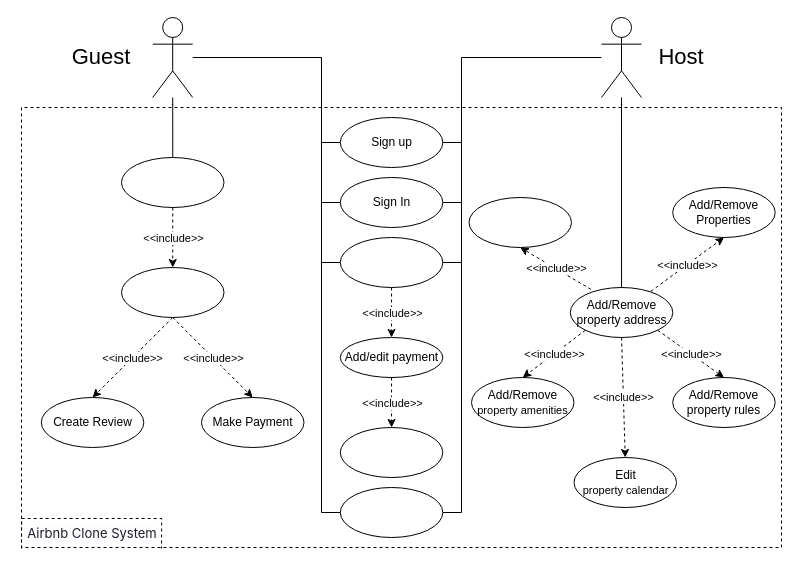
Image size: 800x567. Some labels were removed from this diagram. Here are the shapes that lost their labels. From the top down, the centre of each, then its label:
the point at 172,182: Search/Filter Properties
the point at 520,222: Add/Remove property photos
the point at 391,262: Edit profiles
the point at 172,292: Create/Edit/Cancel Booking
the point at 391,452: Add/edit address
the point at 391,512: Send/Receive Messages
